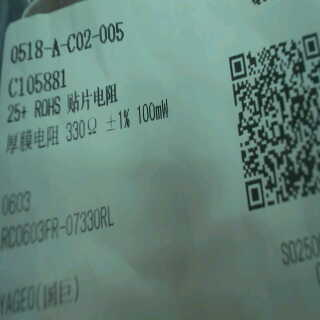330R: (62, 114, 101, 144)
